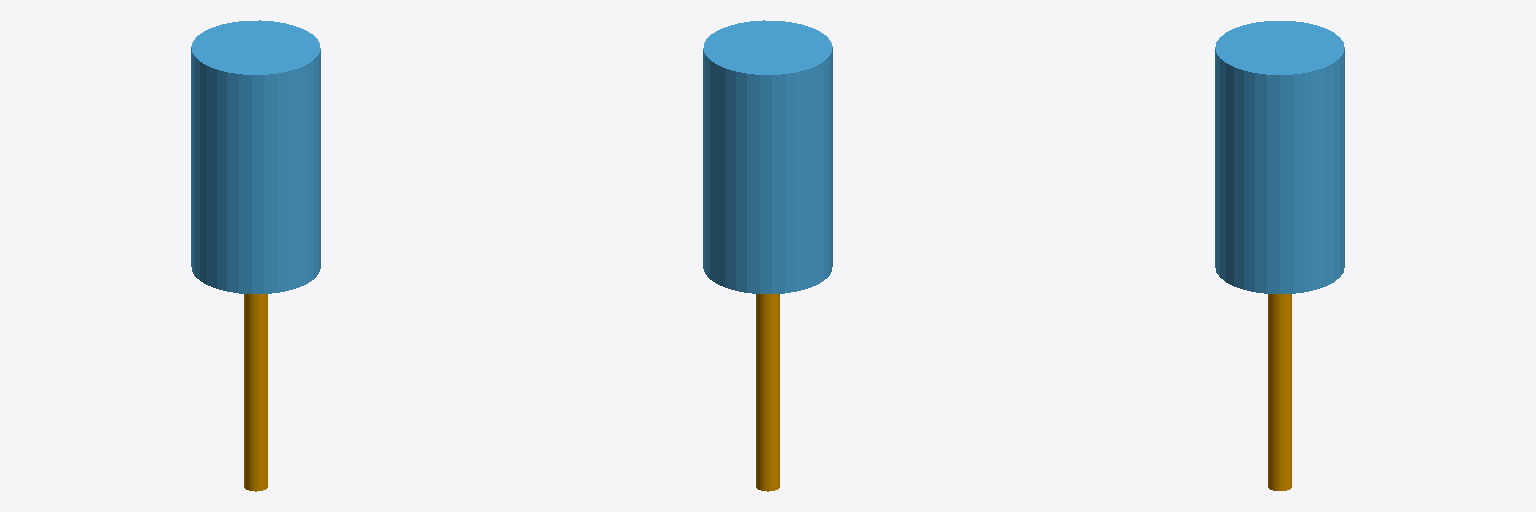
URDF robot description (screwdriver_on_the_table):
<?xml version="1.0" ?>
<!-- this is the one without any virtual joints and links -->
<robot name="screwdriver_on_the_table">
<link name="screwdriver_stick">
    <inertial>
      <mass value="0.05"/>
      <!-- <friction value="1.0"/> -->
      <inertia ixx="0.000041979" ixy="0.0" ixz="0.0" iyy="0.000041979" iyz="0.0" izz="0.000000625"/>
    </inertial>
    <visual>
        <origin rpy="0 0 0" xyz="0 0 0.05"/>
        <geometry>
            <cylinder radius="0.005" length="0.1"/>
        </geometry>
        <!-- <material name="White">
	 	    <color rgba="0.9 0.9 0.9 0.5"/>
        </material> -->
    </visual>
    <collision>
        <origin rpy="0 0 0" xyz="0 0 0.05"/>
        <geometry>
            <cylinder radius="0.005" length="0.1"/>
        </geometry>
    </collision>
</link>

<gazebo reference="screwdriver_body">
    <mu1>1.222748</mu1>
    <mu2>0.619865</mu2>
    <!-- Isaac Sim maps mu1/mu2 to PhysX static/dynamic friction during URDF→USD import -->
</gazebo>

<joint name="screwdriver_stick_body_joint" type="fixed">
    <parent link="screwdriver_stick"/>
    <child link="screwdriver_body"/>
    <origin rpy="0 0 0" xyz="0 0 0.1"/> 
    <axis xyz="0 0 1"/>
</joint>

<link name="screwdriver_body">
    <inertial>
      <mass value="0.090152"/>
      <inertia ixx="0.000091278" ixy="0.0" ixz="0.0" iyy="0.000091278" iyz="0.0" izz="0.000032303"/>
    </inertial>
    <visual>
        <origin rpy="0 0 0" xyz="0 0 0.05"/>
        <geometry>
            <cylinder radius="0.026770" length="0.1"/>
        </geometry>
        <!-- <material name="Red1">
	 	    <color rgba="0.9 0. 0. 0.5"/>
        </material> -->
    </visual>
    <collision>
        <origin rpy="0 0 0" xyz="0 0 0.05"/>
        <geometry>
            <cylinder radius="0.026770" length="0.1"/>
        </geometry>
    </collision>
</link>

<!-- <joint name="screwdriver_body_cap_joint" type="revolute">
    <parent link="screwdriver_body"/>
    <child link="screwdriver_cap"/>
    <origin rpy="0 0 0" xyz="0 0 0.1"/> 
    <axis xyz="0 0 1"/>
</joint>

<link name="screwdriver_cap">
    <inertial>
      <mass value="0.005"/>
      <inertia ixx="0.00001" ixy="0.0" ixz="0.0" iyy="0.000005" iyz="0.0" izz="0.000005"/>
    </inertial>
    <visual>
        <origin rpy="0 0 0" xyz="0 0 0.0006"/>
        <geometry>
            <cylinder radius="0.02" length="0.001"/>
        </geometry>
        <material name="Yellow">
	 	    <color rgba="0.9 0.9 0. 1.0"/>
        </material>
    </visual>
    <collision>
        <origin rpy="0 0 0" xyz="0 0 0.0005"/>
        <geometry>
            <cylinder radius="0.02" length="0.001"/>
        </geometry>
    </collision>
</link> -->

</robot>

--- What the picture shows (computed from the rendered views, not written in the file) ---
Views: 3 orthographic renders of the robot side by side, from view 1: azimuth 30°, elevation 25°; view 2: azimuth 150°, elevation 25°; view 3: azimuth 270°, elevation 25°.
Robot: screwdriver_on_the_table — 2 links, 1 joints (1 fixed); root link screwdriver_stick; default pose: all joints at 0.
Links seen in each view (by area): view 1: screwdriver_body, screwdriver_stick; view 2: screwdriver_body, screwdriver_stick; view 3: screwdriver_body, screwdriver_stick.
Boxes of the visible links, left/top/right/bottom form: screwdriver_body: left=191, top=20, right=320, bottom=293; screwdriver_stick: left=244, top=294, right=267, bottom=491; screwdriver_body: left=703, top=20, right=832, bottom=293; screwdriver_stick: left=756, top=294, right=779, bottom=491; screwdriver_body: left=1215, top=21, right=1344, bottom=293; screwdriver_stick: left=1268, top=294, right=1291, bottom=490.
Size in the robot's own frame: 0.0535 by 0.0535 by 0.2 metres.
Geometry: primitives only (box / cylinder / sphere), no mesh files.
